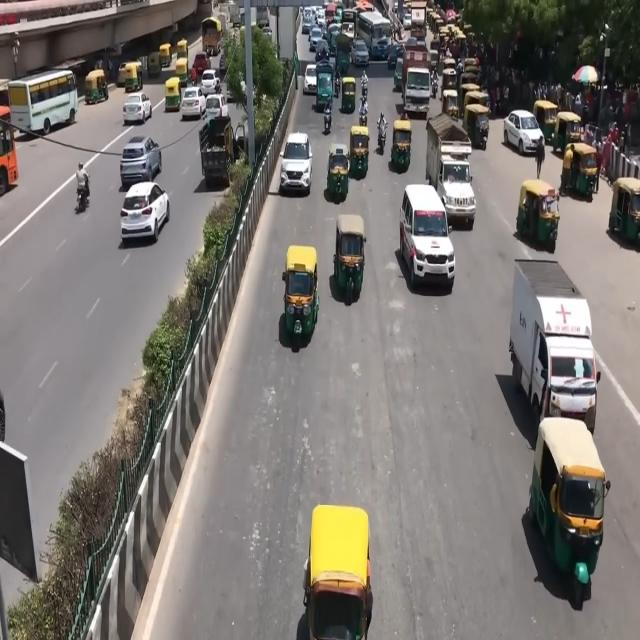auto: (528, 414, 608, 602), (305, 504, 373, 640), (282, 244, 320, 343), (516, 178, 560, 254), (334, 214, 368, 302), (608, 176, 640, 246), (326, 146, 351, 203), (390, 118, 412, 173), (349, 125, 370, 178), (85, 68, 109, 105), (120, 61, 142, 92), (165, 77, 182, 112), (175, 58, 189, 90), (158, 42, 172, 70)
bike-auto: (75, 161, 90, 209), (377, 120, 388, 152), (324, 102, 332, 134), (430, 72, 439, 99), (359, 104, 368, 128), (361, 72, 368, 98)
